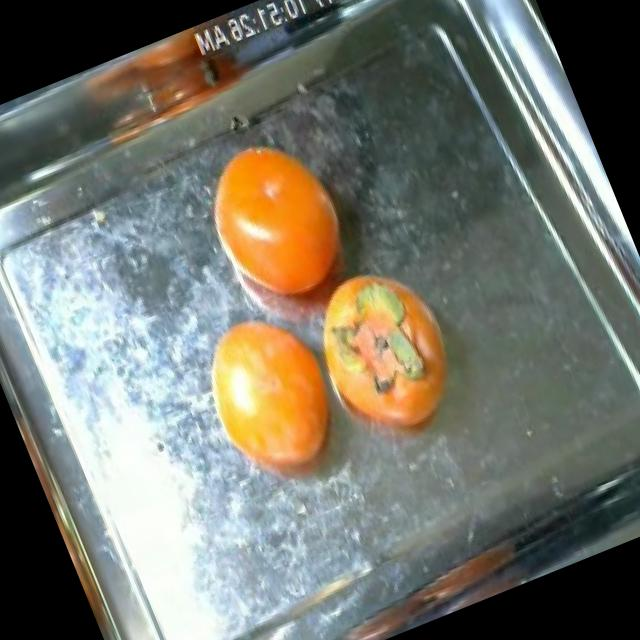Fruit: (172, 101, 388, 342), (167, 280, 369, 514), (288, 244, 454, 444), (62, 20, 246, 172)
